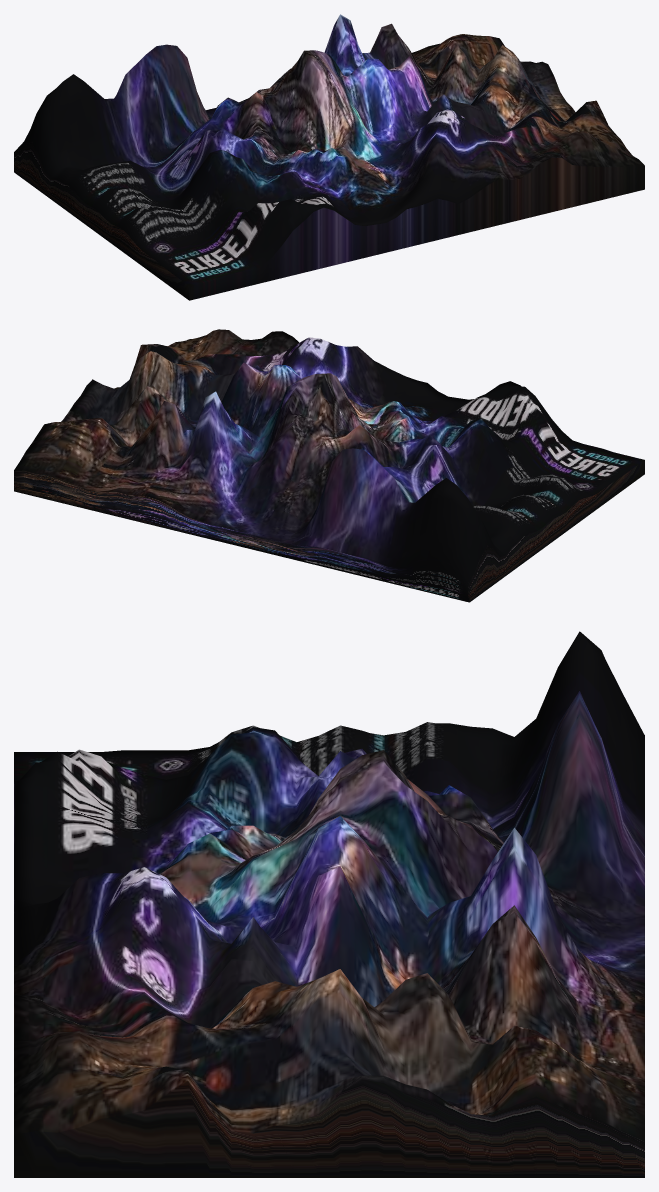
Rendered from CAREER_01_VFX_03_Haggle.glb.
The picture shows the model from 3 angles, top to bottom: view 1: azimuth 30°, elevation 25°; view 2: azimuth 150°, elevation 25°; view 3: azimuth 270°, elevation 25°; orthographic projection. The views are drawn at different scales.
Visible parts, largest first — view 1: CAREER_01_VFX_03_Haggle; view 2: CAREER_01_VFX_03_Haggle; view 3: CAREER_01_VFX_03_Haggle.
Boxes of the visible parts, x1=… form: CAREER_01_VFX_03_Haggle: x1=14, y1=14, x2=644, y2=300; CAREER_01_VFX_03_Haggle: x1=14, y1=329, x2=644, y2=602; CAREER_01_VFX_03_Haggle: x1=14, y1=631, x2=644, y2=1177.
Bounding box in the file's own units: 2 × 0.51 × 1.33.
Materials: 1 (1 with a texture image).
